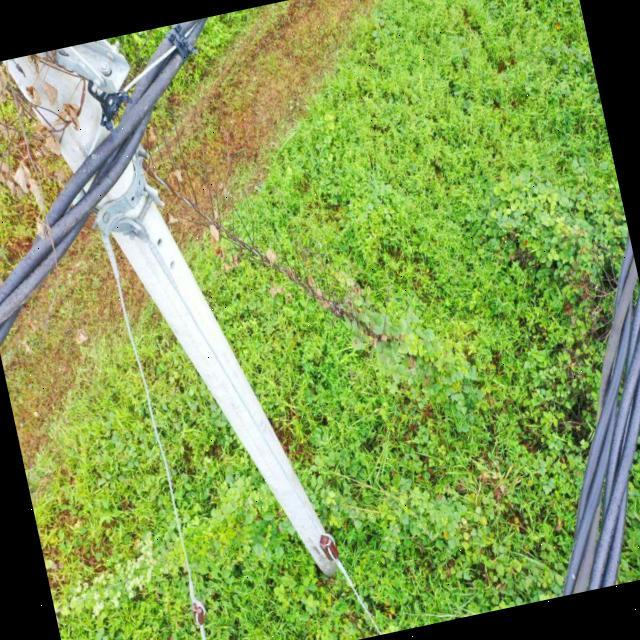critical vegetation: (122, 46, 478, 466)
